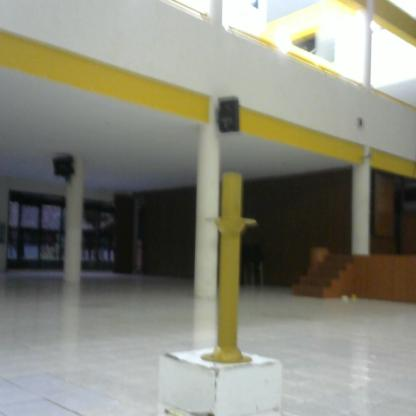pole: (199, 164, 264, 372)
